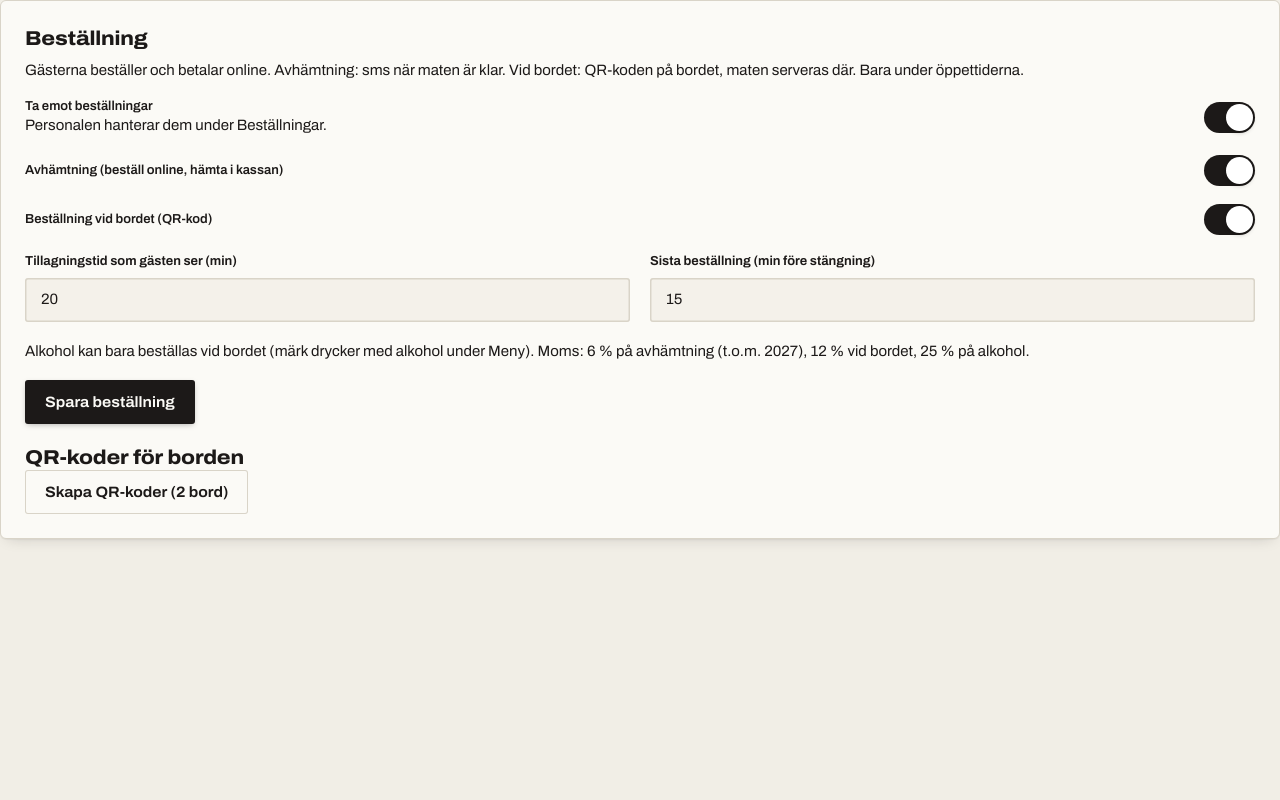
it: OrderingCard › needs at least one way to order
This screenshot has width=1280, height=800.
Step 1. Click the 2nd switch named "Avhämtning (beställ online, hämta i kassan)" → [1230, 170], box [1204, 155, 1255, 186]
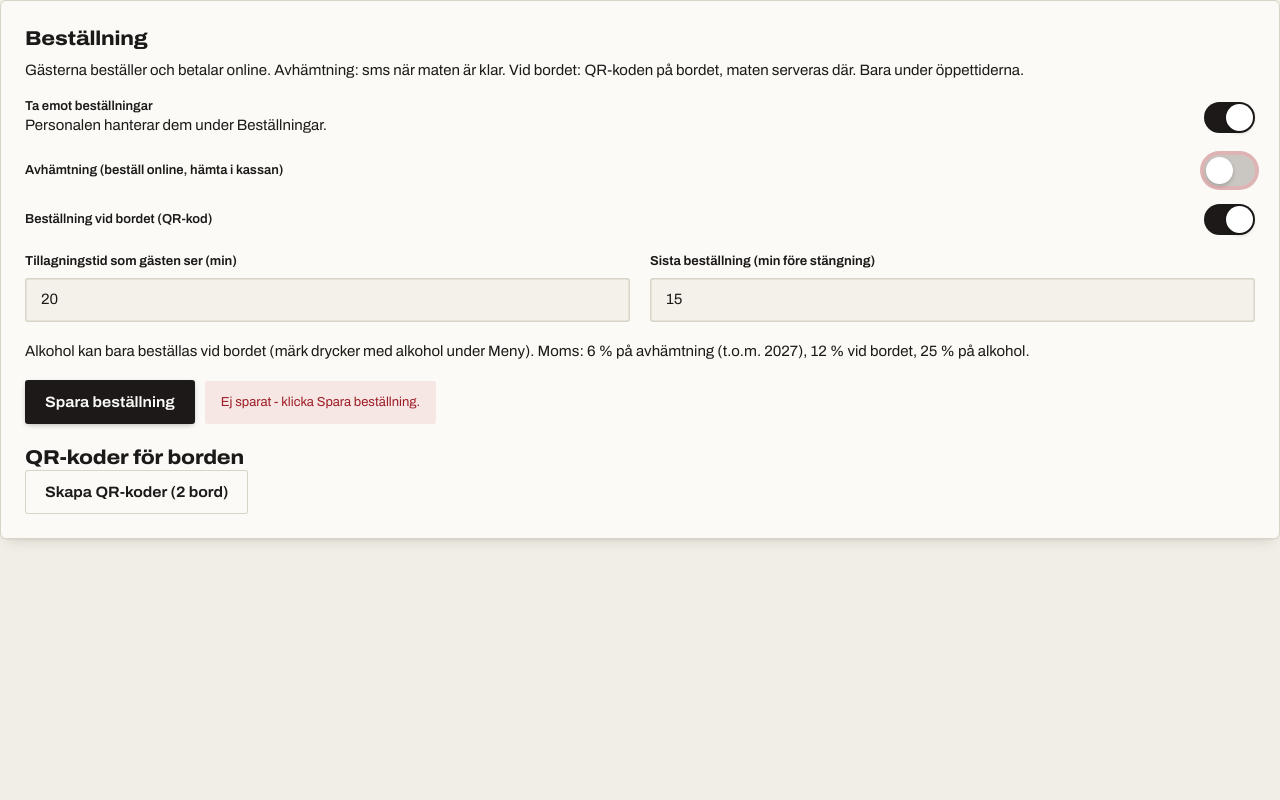
Step 2. Click the switch named "Beställning vid bordet (QR-kod)" in the row of "Beställning vid bordet (QR-kod)" → [1230, 219], box [1204, 204, 1255, 235]
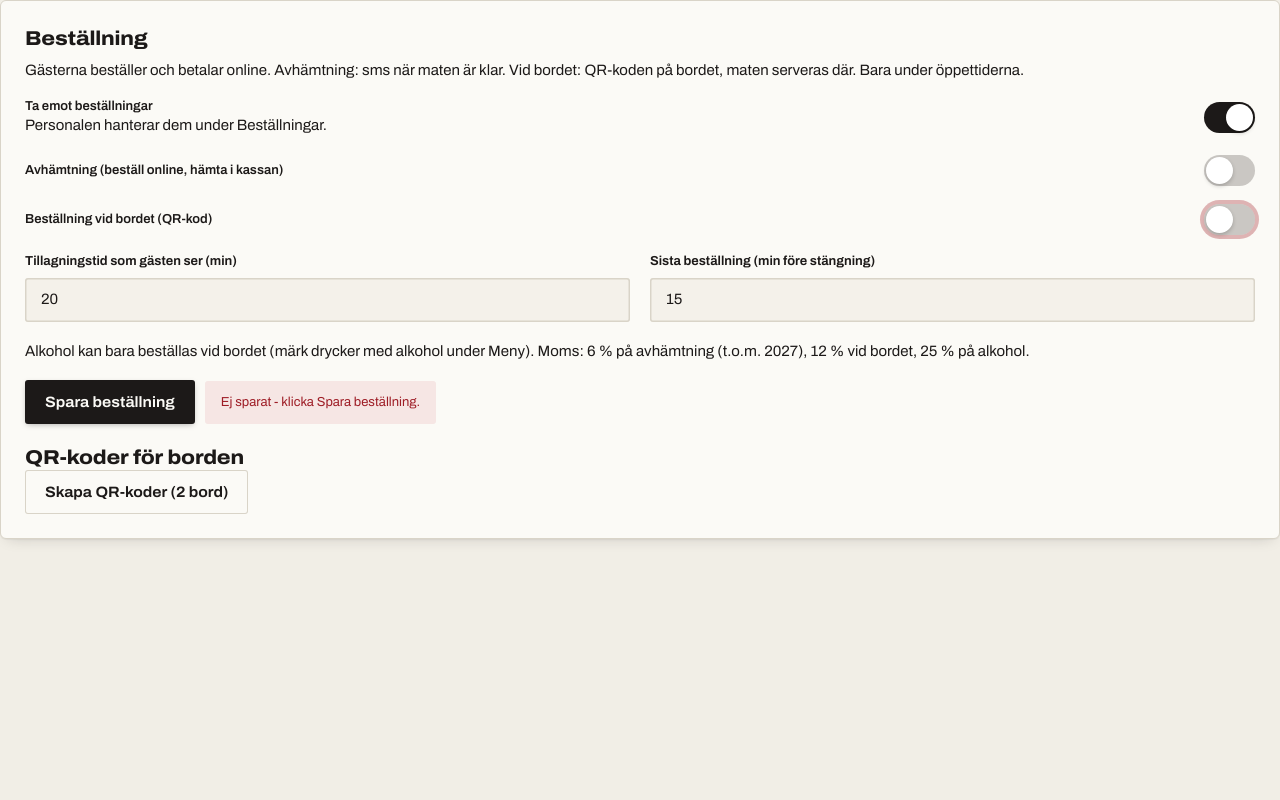
Step 3. Click the button "Spara beställning" → [110, 402], box [25, 380, 195, 424]
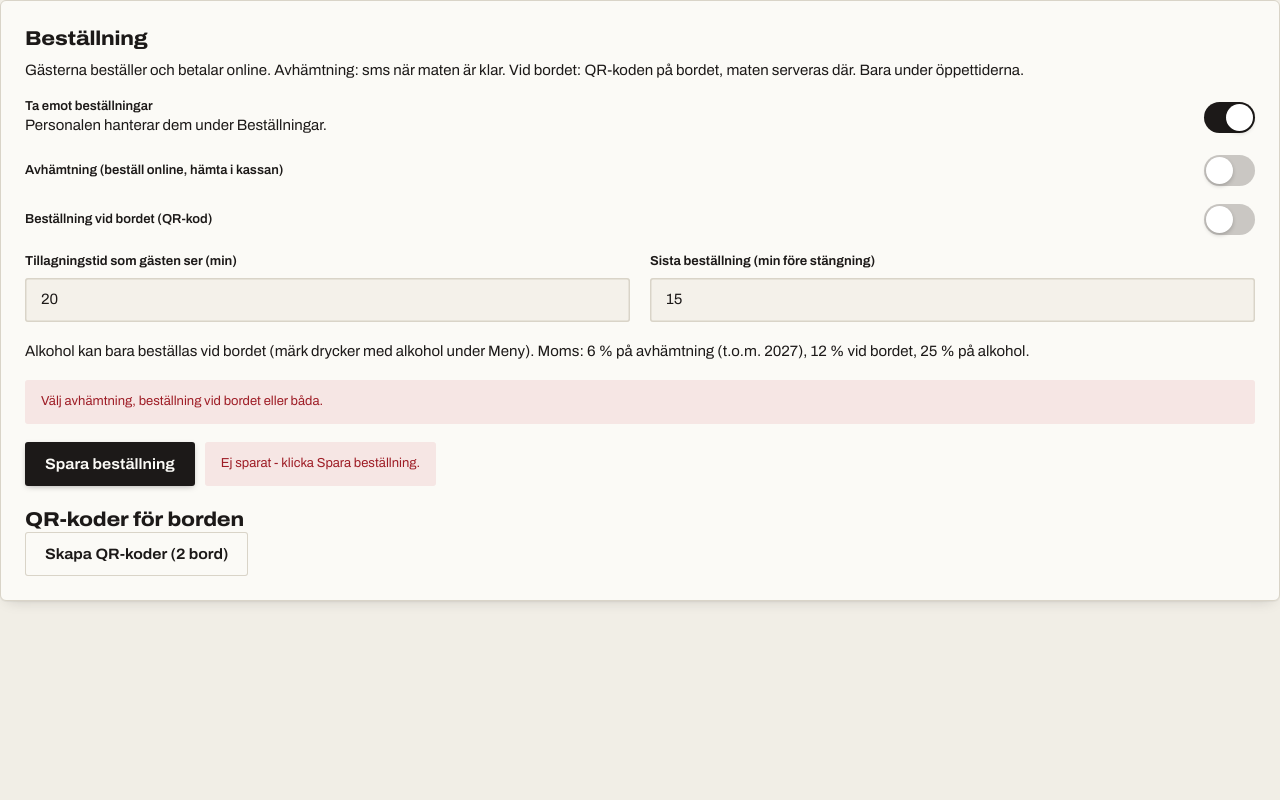
Check: the message "Välj avhämtning, beställning vid bordet eller båda." is shown, box [25, 380, 1255, 424]
